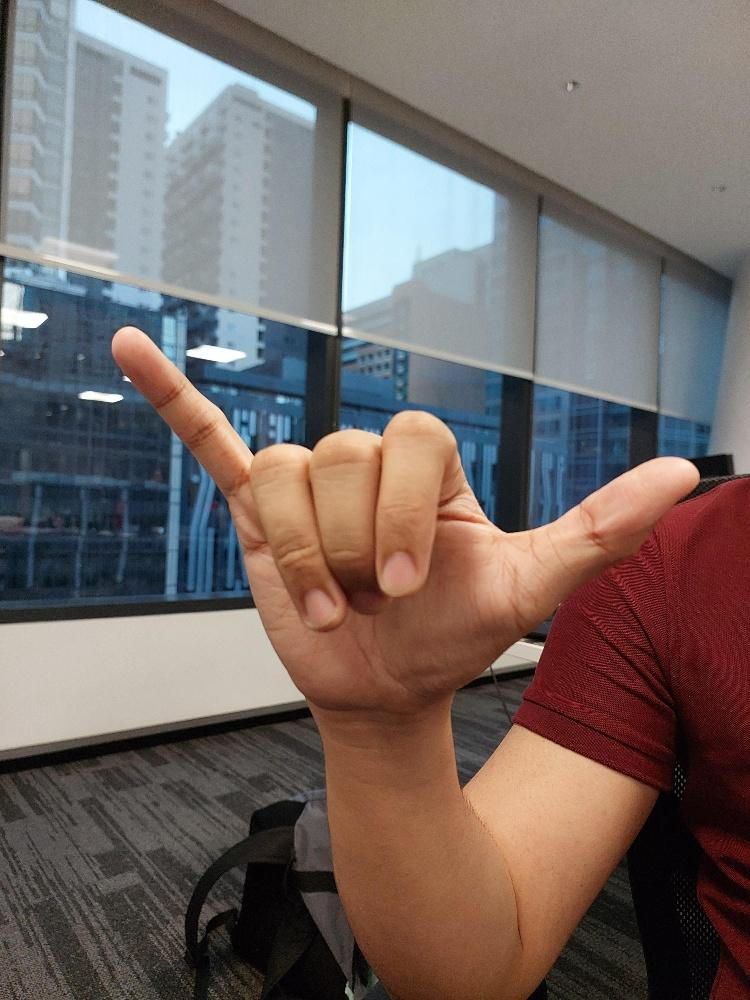y: (106, 320, 701, 716)
